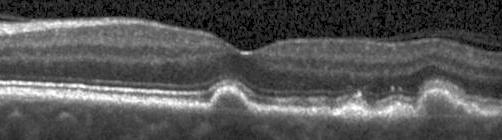retinal_drusen: (421, 91, 456, 114), (213, 90, 246, 109), (383, 103, 413, 116), (340, 104, 363, 116), (467, 103, 481, 115), (457, 104, 465, 114)
